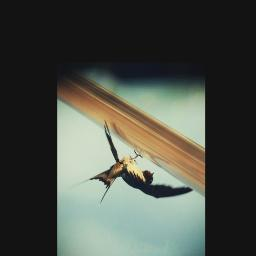Swallow: (70, 120, 195, 206)
